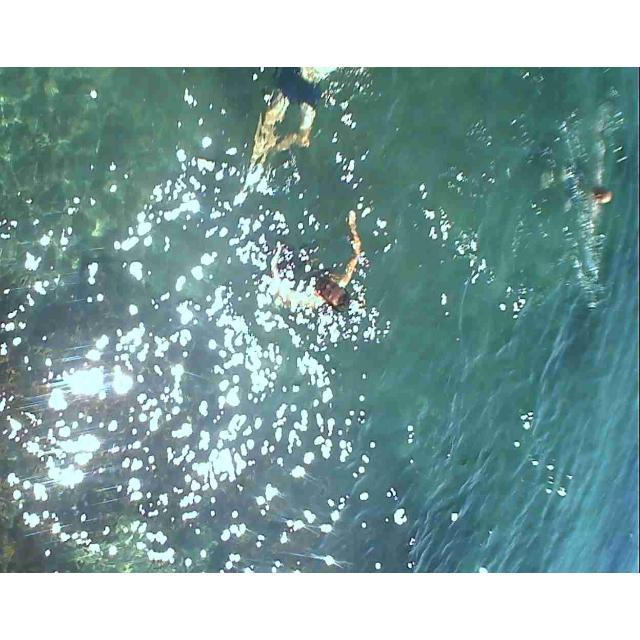human: (249, 67, 365, 196), (267, 200, 358, 322), (567, 162, 613, 220)
